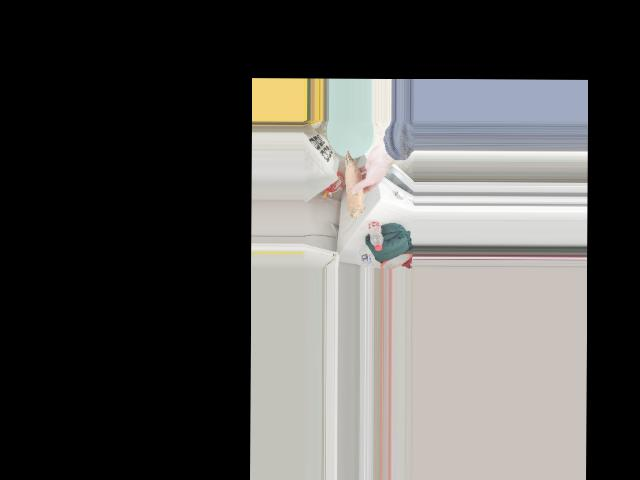sweet_potato: (346, 149, 361, 221)
